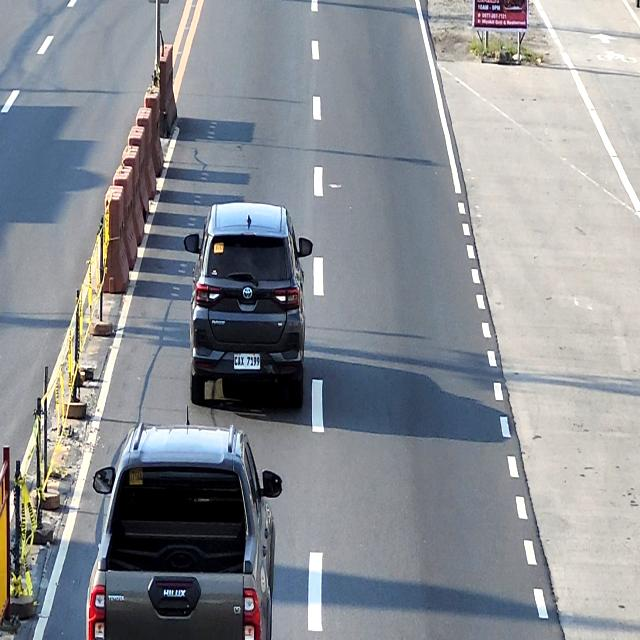Car: (86, 427, 282, 640), (183, 203, 313, 412)
License-Plate: (233, 353, 260, 370)
